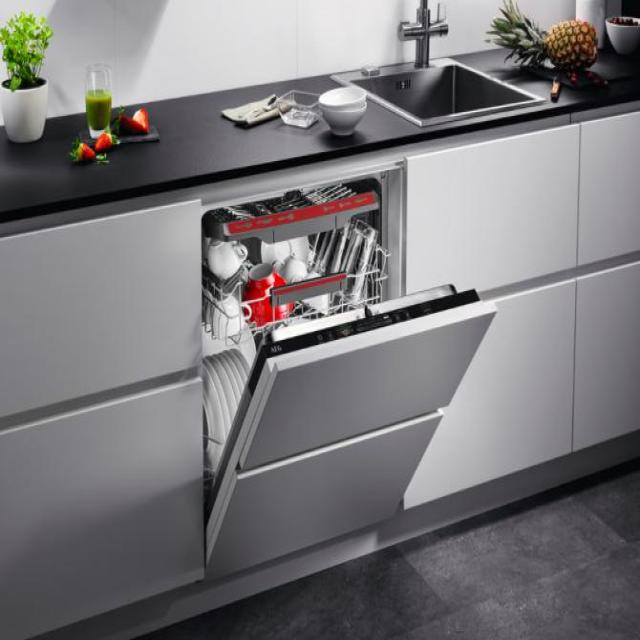dishwasher: (200, 162, 494, 580)
